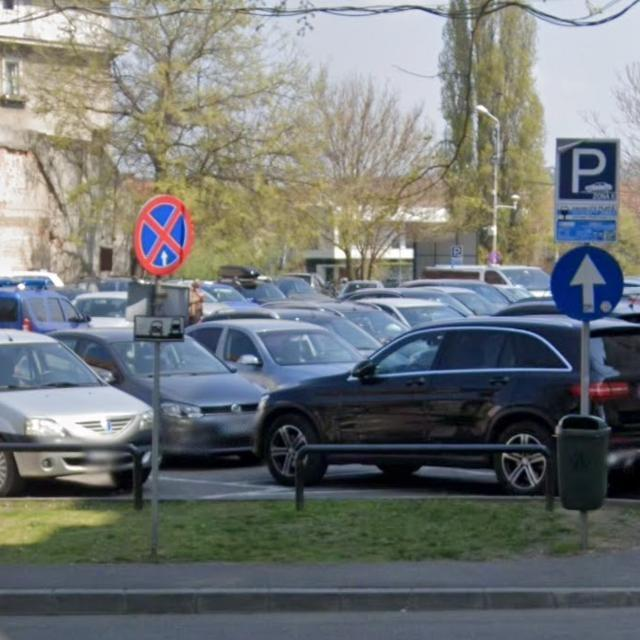forb_waiting: (133, 195, 194, 276)
